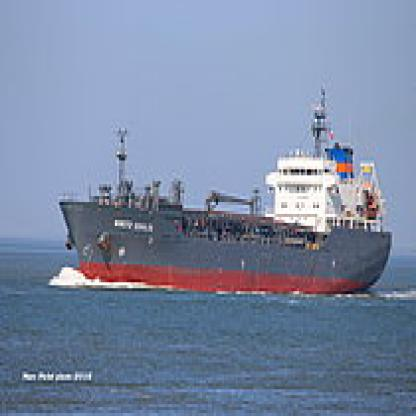Tanker: (50, 80, 396, 306)
